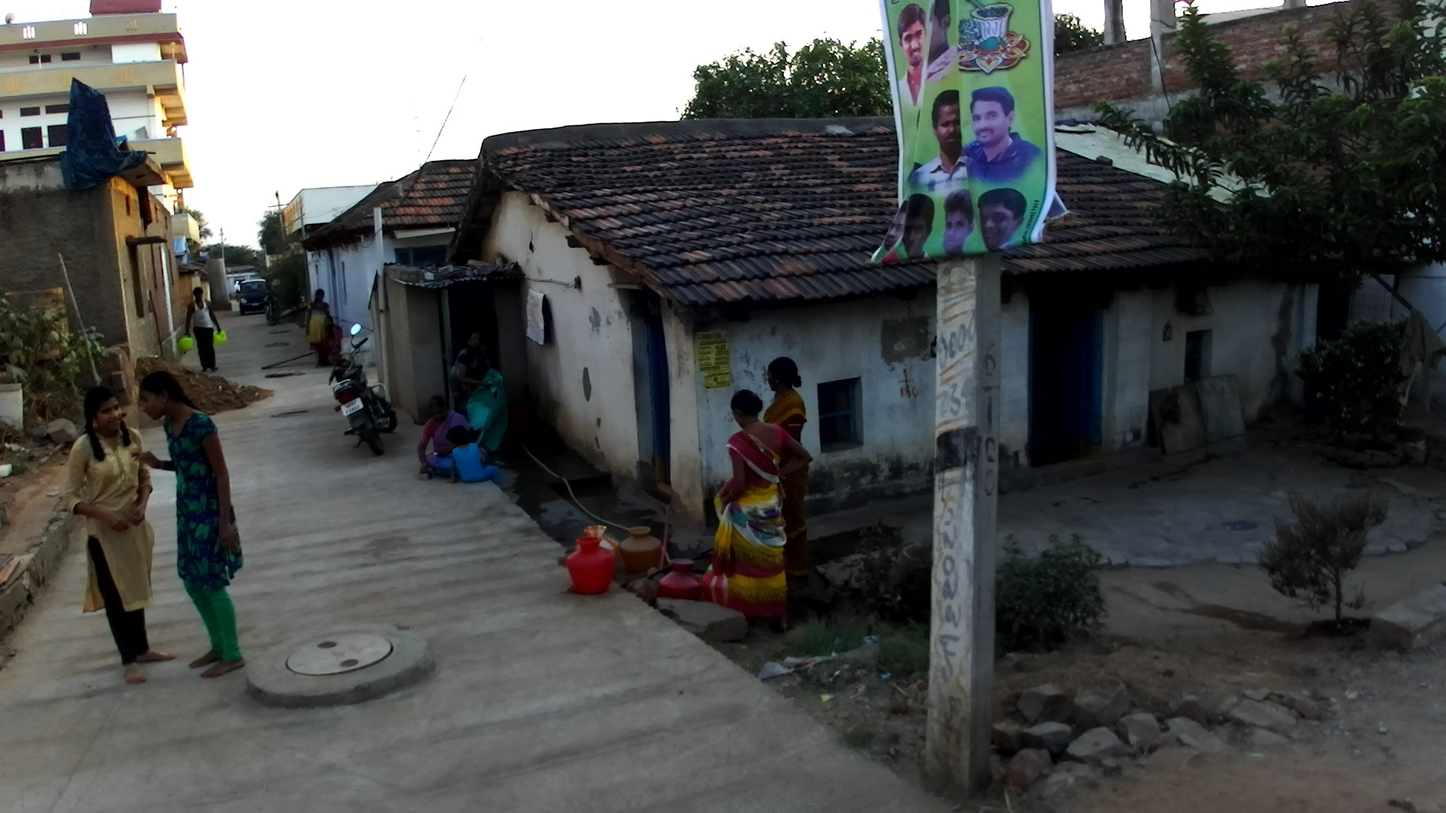car: (236, 279, 268, 315)
motorcycle: (327, 323, 398, 456), (262, 294, 282, 326)
person: (130, 368, 246, 680), (62, 385, 176, 684), (706, 389, 813, 632), (762, 355, 812, 594), (416, 395, 486, 479), (178, 286, 226, 374), (448, 329, 493, 421), (444, 424, 505, 487), (304, 288, 331, 369), (319, 315, 341, 367)
